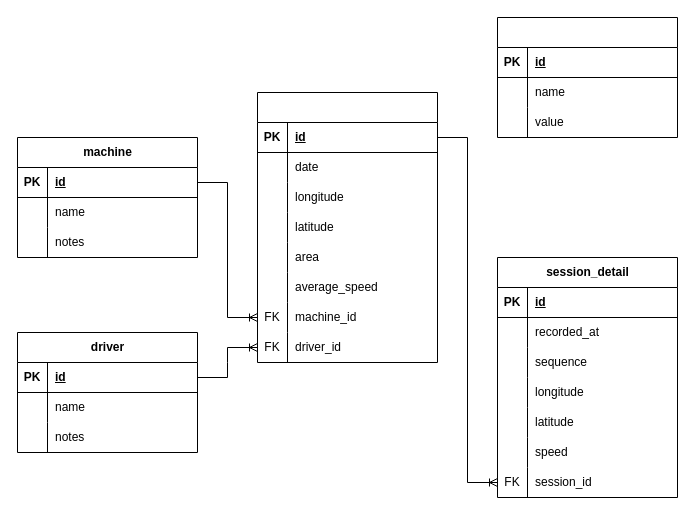
Some shapes in this 695 by 515 pixel diagram are drawn without their labels. The shapes that lost their labels are listed below. From the top down, each one's box as (x1, y1, x2, y2) in pixels, then its label:
(496, 16, 678, 138): settings
(256, 92, 438, 362): session
